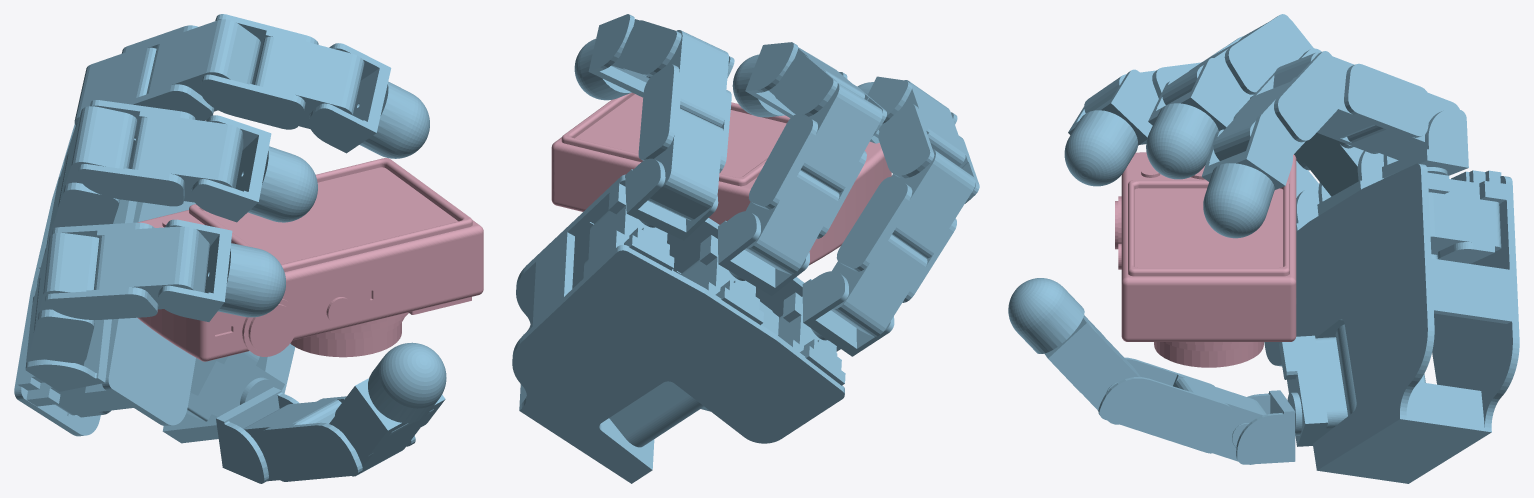
3 views of the same model, side by side, from view 1: azimuth 30°, elevation 25°; view 2: azimuth 150°, elevation 25°; view 3: azimuth 270°, elevation 25° (orthographic). The views are drawn at different scales.
Visible parts, largest first — view 1: world, camera.stl; view 2: world, camera.stl; view 3: world, camera.stl.
Boxes of the visible parts, x1,y1,x2,y2 form: world: (14,14,446,483); camera.stl: (137,158,483,361); world: (512,14,979,483); camera.stl: (551,92,891,265); world: (1008,14,1519,483); camera.stl: (1115,152,1296,367).
Bounding box in the file's own units: 0.1628 × 0.1762 × 0.1894.
